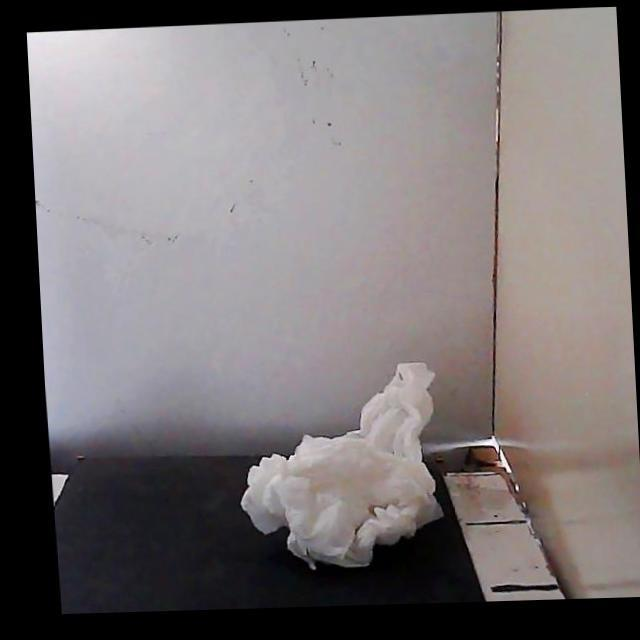papel: (241, 363, 442, 569)
